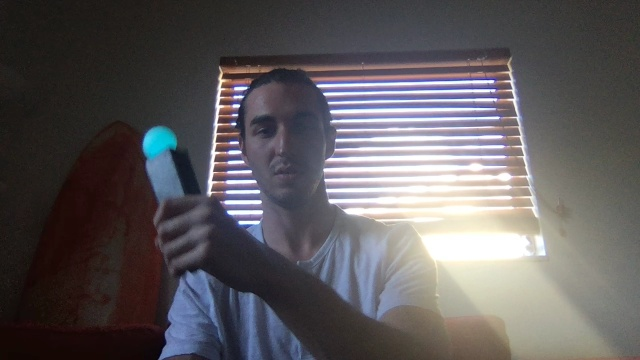wand: (144, 123, 179, 158)
